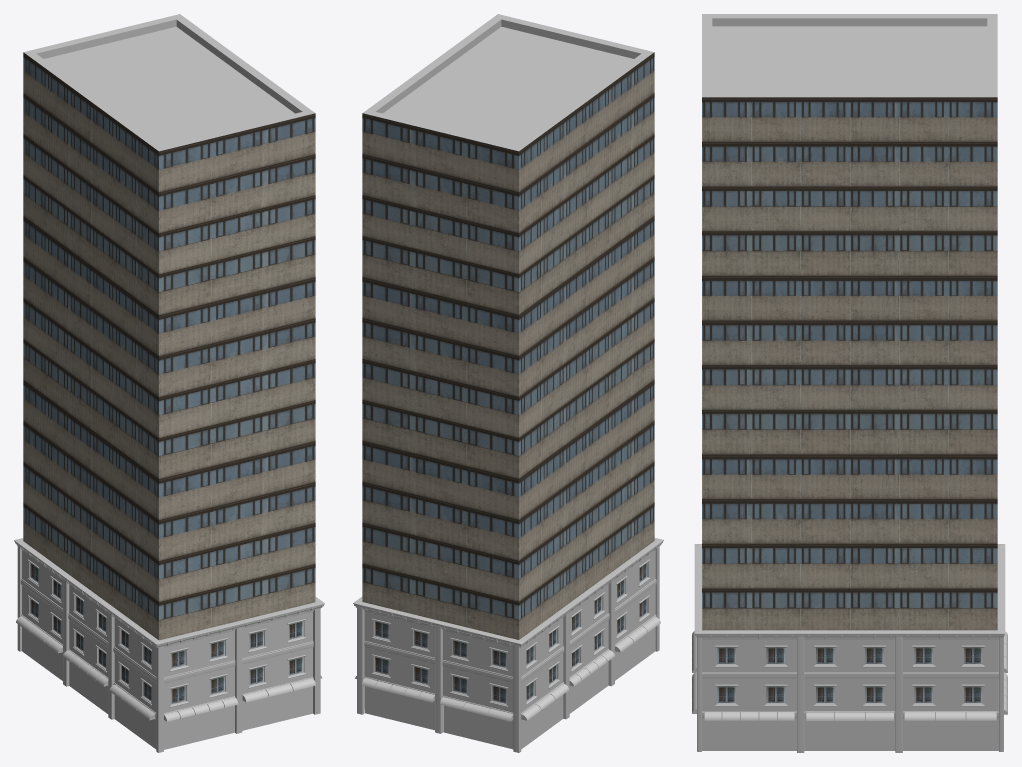
File: High RIse Building 30.fbx
3 renders of one model, left to right at view 1: azimuth 30°, elevation 25°; view 2: azimuth 150°, elevation 25°; view 3: azimuth 270°, elevation 25°, orthographic. The views are drawn at different scales.
Parts seen in each view (by area): view 1: Top, Part_2, Part_1, Base; view 2: Top, Part_2, Part_1, Base; view 3: Top, Part_2, Part_1, Base.
Part boxes in pixels (x1,y1,x2,y2): Top: (23, 14, 315, 315); Part_2: (23, 216, 315, 478); Part_1: (23, 380, 315, 640); Base: (14, 538, 324, 752); Top: (362, 14, 654, 314); Part_2: (362, 216, 654, 478); Part_1: (362, 380, 654, 639); Base: (353, 538, 663, 752); Top: (702, 14, 997, 275); Part_2: (702, 276, 997, 454); Part_1: (702, 454, 997, 630); Base: (692, 544, 1007, 752).
Bounding box in the file's own units: 1763 × 5850 × 2564.
